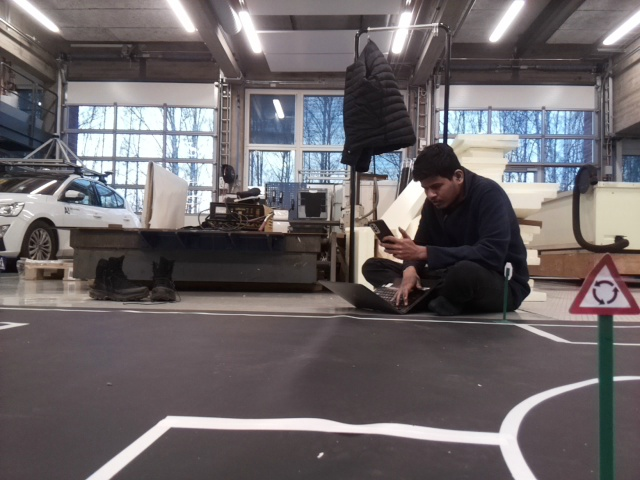Roundabout: (569, 248, 639, 315)
